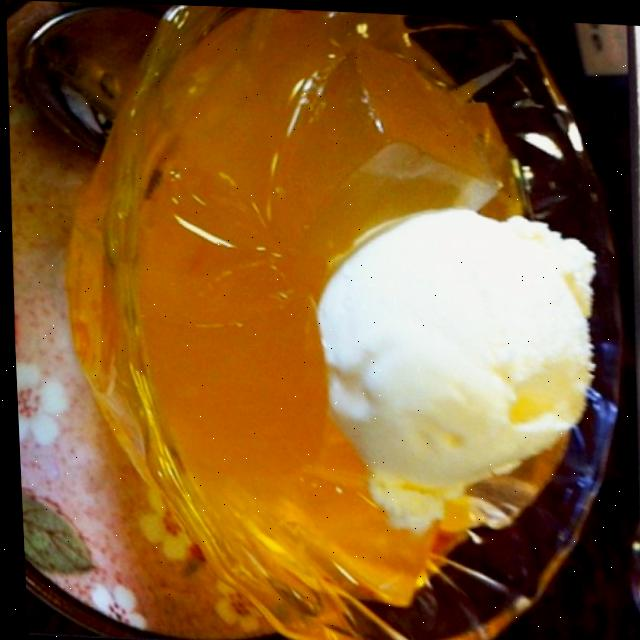蛋糕甜品: (68, 2, 625, 640)
